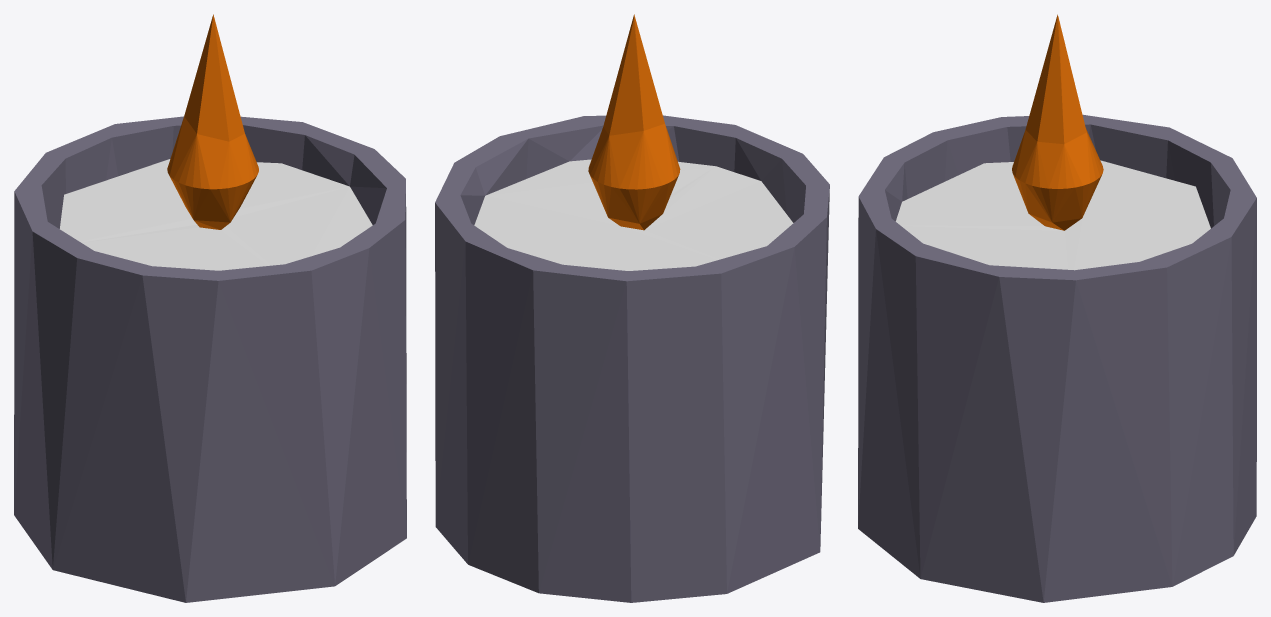
Rendered from Candle_1128.fbx.
3 renders of one model, left to right at view 1: azimuth 30°, elevation 25°; view 2: azimuth 150°, elevation 25°; view 3: azimuth 270°, elevation 25°, orthographic.
Parts seen in each view (by area): view 1: Candle; view 2: Candle; view 3: Candle.
Boxes of the visible parts, x1,y1,x2,y2 form: Candle: [14, 14, 406, 602]; Candle: [435, 14, 829, 602]; Candle: [858, 14, 1256, 602].
Bounding box in the file's own units: 725 × 1008 × 723.
